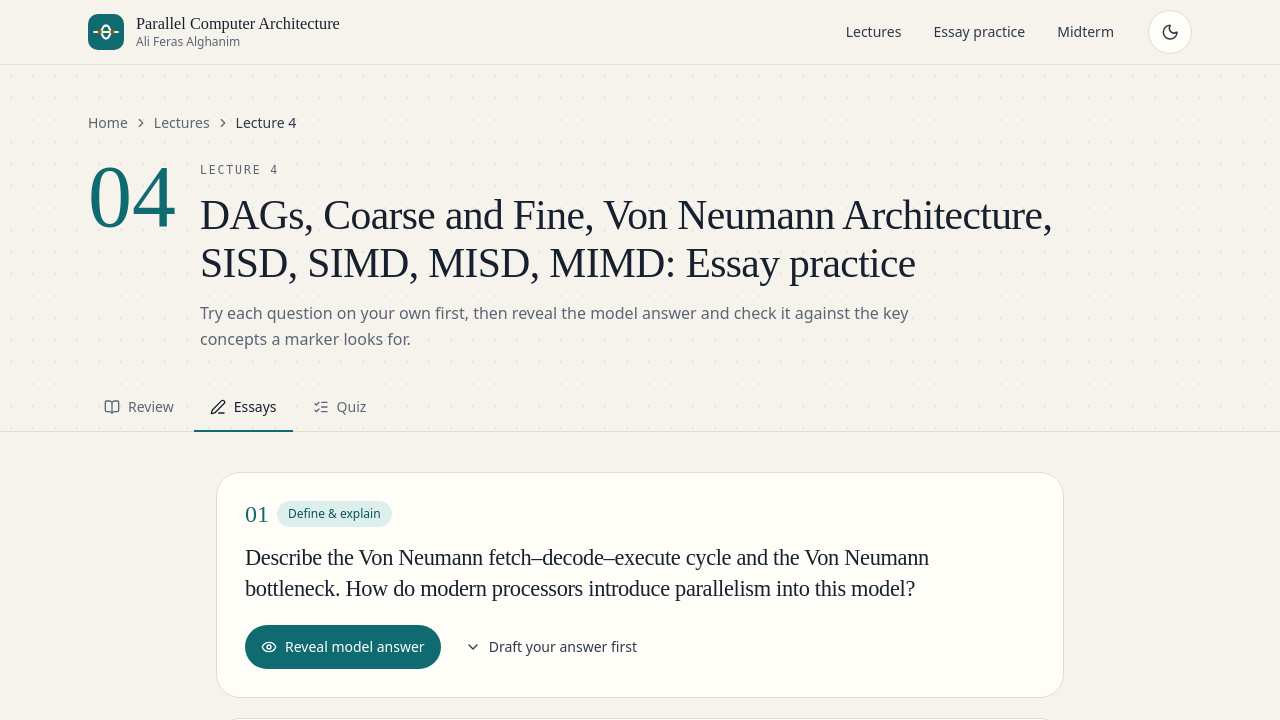
Test: routes › renders lecture essays with hidden model answers that can be revealed
What coordinates should you click on to do the following:
click the button "Reveal model answer"
I would click on:
 (343, 647)
Its box is [245,625,441,669].
(page scrolled)
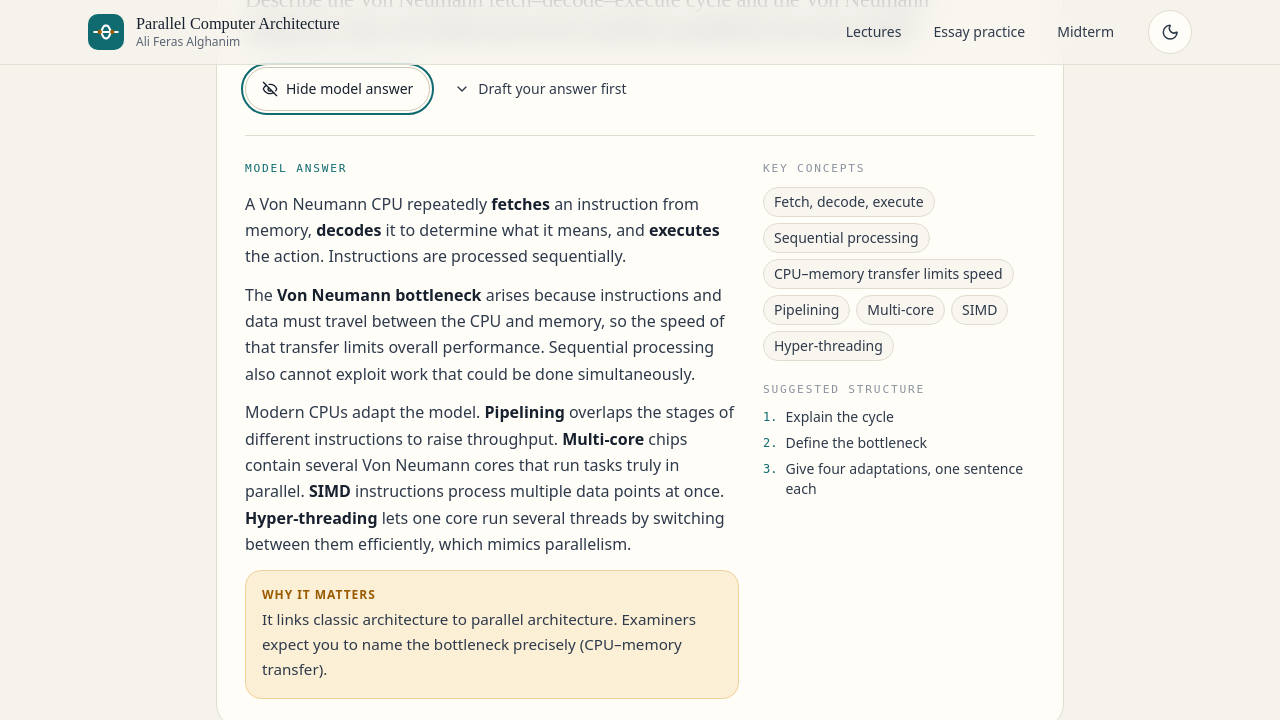
Check: the element "Model answer" is shown, box [245,111,1035,699]
